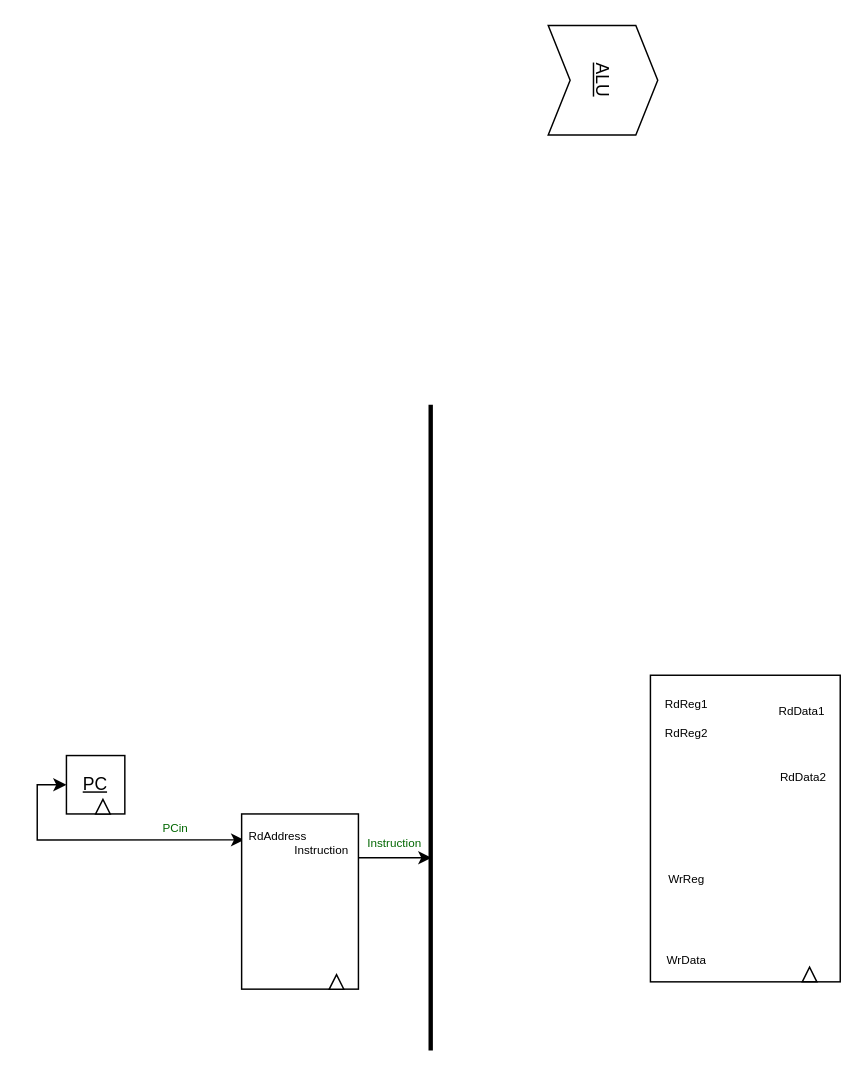
Image size: 866x1079. Some labels were removed from this diagram. The box of each missing label's shape, as (x1, y1, x2, y2) in pixels:
Instruction Memory: (240, 812, 358, 989)
Register Files: (649, 674, 840, 982)
